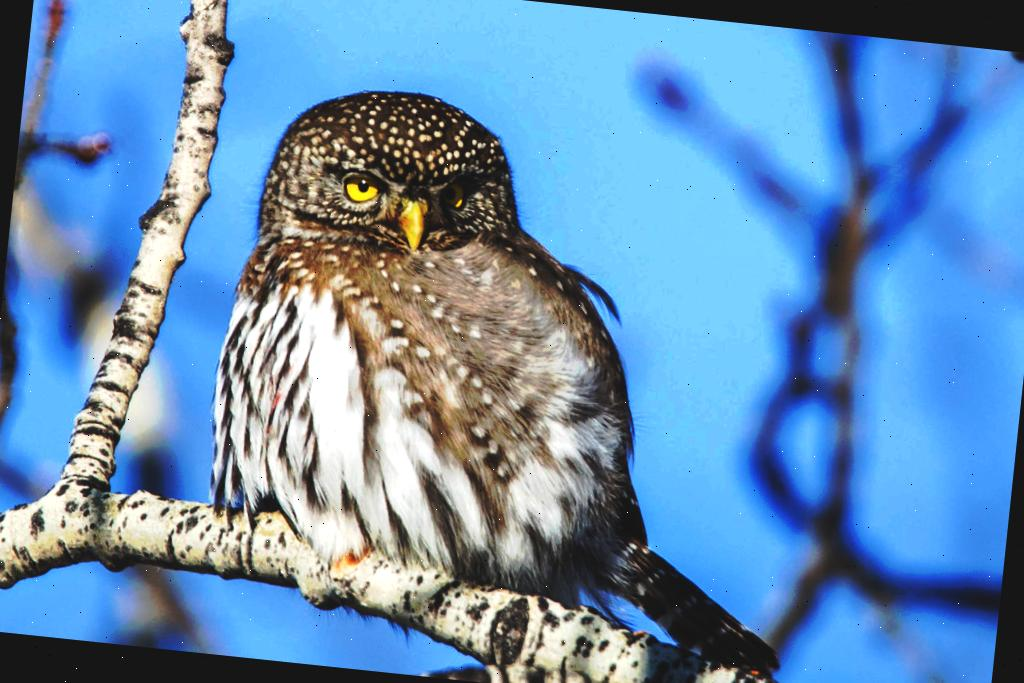Owl: (186, 65, 844, 682)
